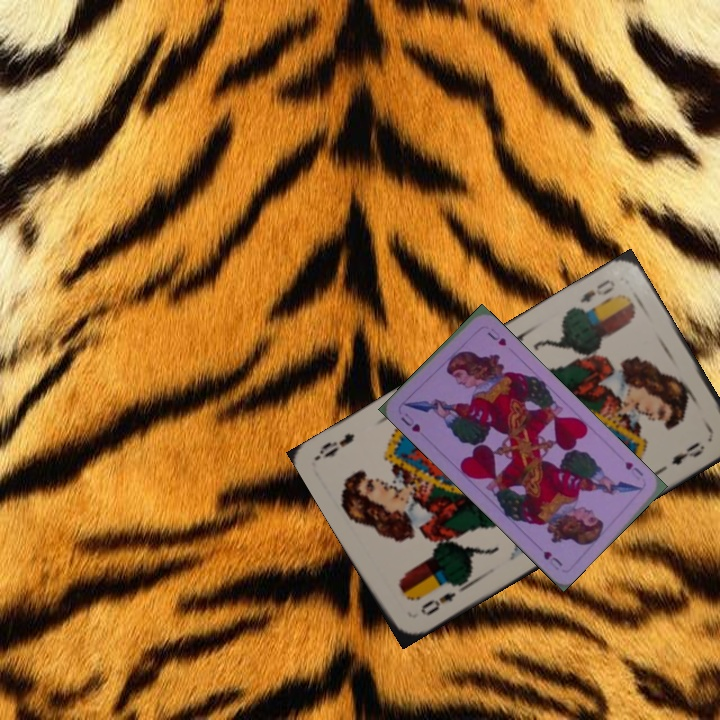EO: (416, 588, 459, 619), (575, 275, 618, 306)
HU: (397, 409, 423, 435), (621, 457, 646, 484)
